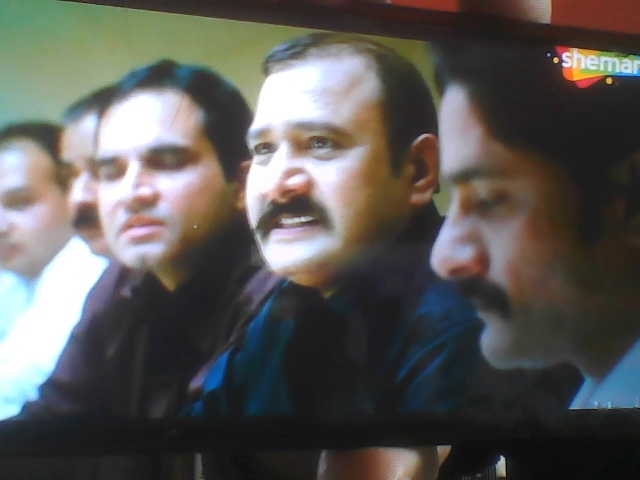fake: (232, 10, 427, 287), (75, 44, 245, 285)
